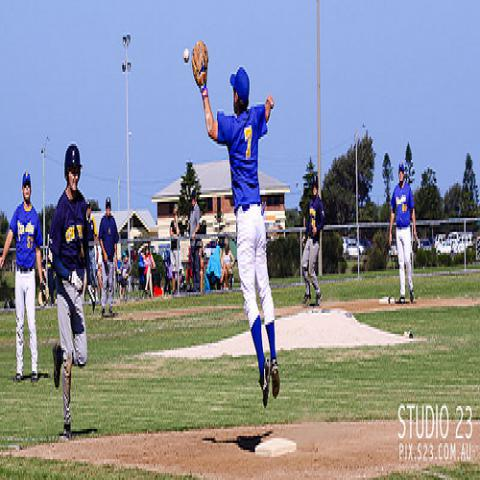car: (436, 241, 458, 256), (346, 240, 358, 260), (421, 241, 431, 250)
